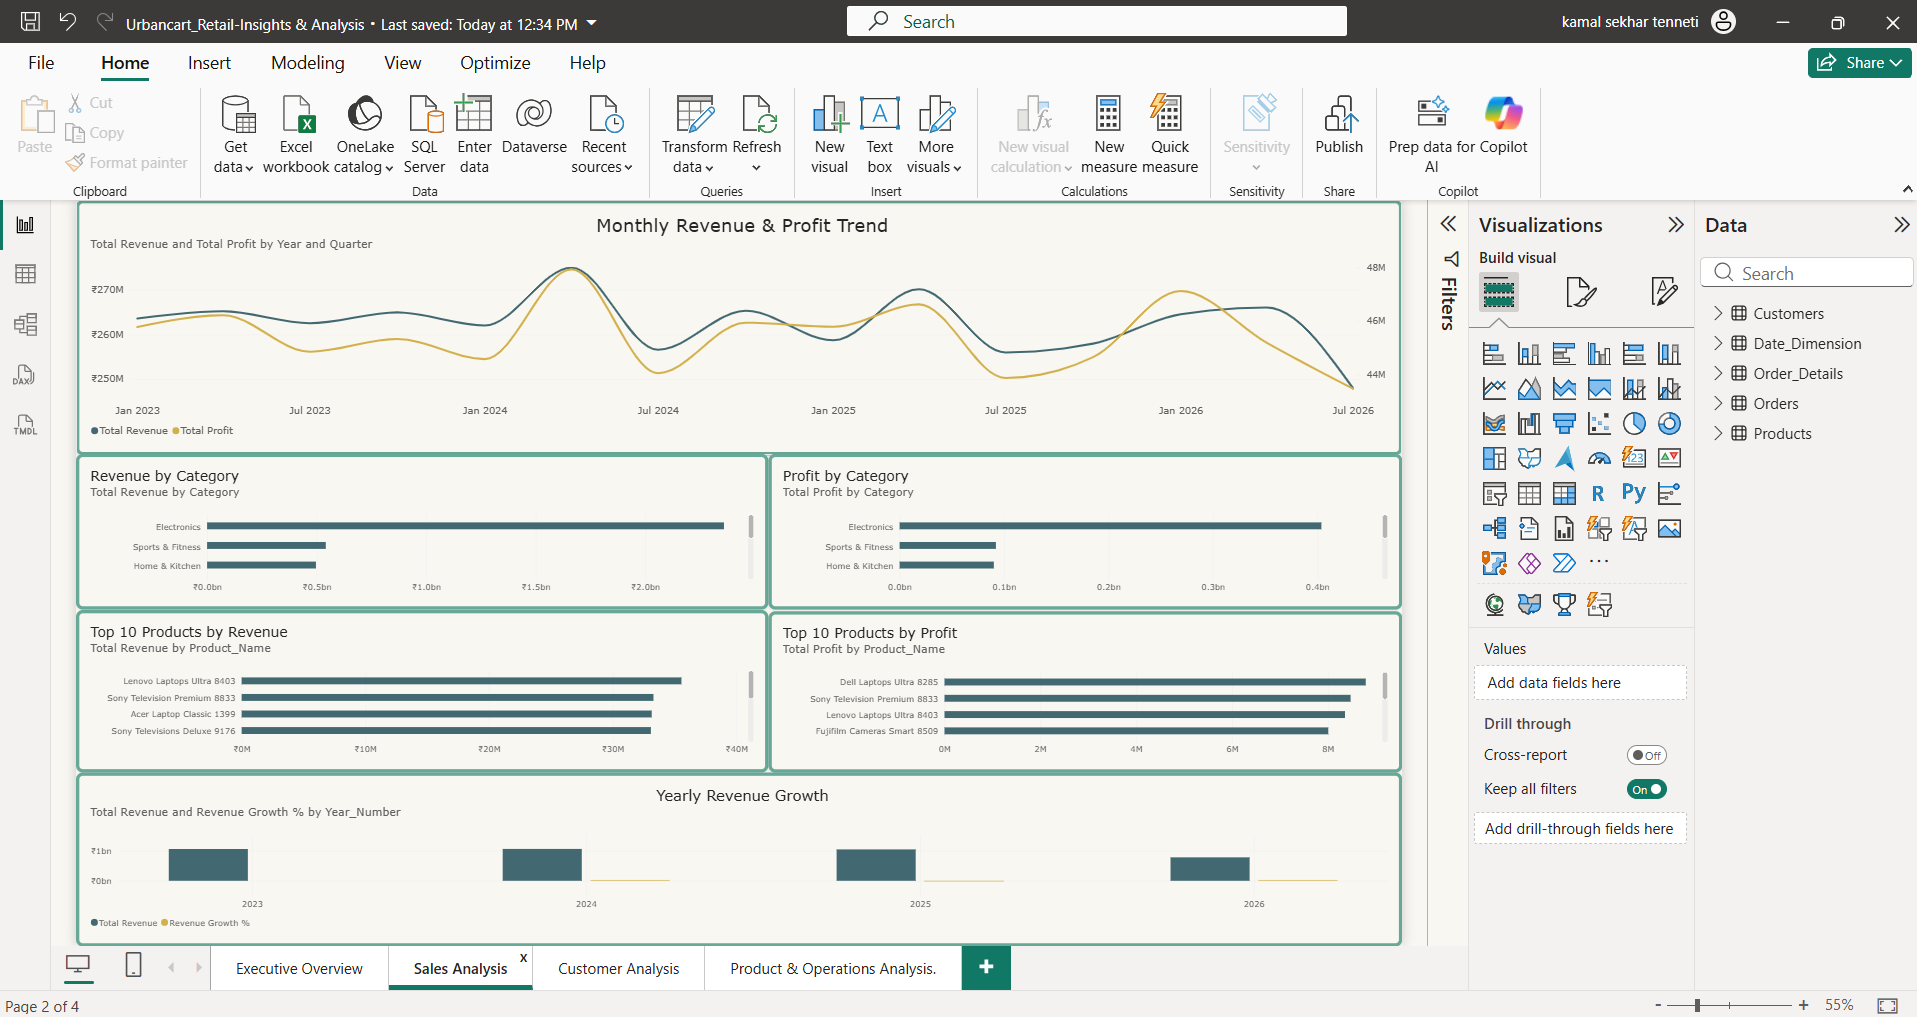

The page's visual inventory and layout, read from the dashboard file:
{"tool":"powerbi","page":{"name":"Sales Analysis","canvas":[1920,1080],"ordinal":1},"visuals":[{"type":"lineChart","title":"Monthly Revenue & Profit Trend","fields":{"Category":["Date_Dimension.Full_Date.Variation.Date Hierarchy.Year","Date_Dimension.Full_Date.Variation.Date Hierarchy.Quarter","Date_Dimension.Full_Date.Variation.Date Hierarchy.Month","Date_Dimension.Full_Date.Variation.Date Hierarchy.Day"],"Y":["Order_Details.Total Revenue"],"Y2":["Order_Details.Total Profit"]},"box":[0,0,1920,369.7],"z":0},{"type":"clusteredBarChart","title":"Revenue by Category","fields":{"Category":["Products.Category"],"Y":["Order_Details.Total Revenue"]},"box":[0,367.1,1002.4,225.9],"z":1000},{"type":"clusteredBarChart","title":"Profit by Category","fields":{"Category":["Products.Category"],"Y":["Order_Details.Total Profit"]},"box":[1002.4,367.1,917.6,225.9],"z":2000},{"type":"clusteredBarChart","title":"Top 10 Products by Revenue","fields":{"Category":["Products.Product_Name"],"Y":["Order_Details.Total Revenue"]},"box":[0,592.9,1002.4,235.3],"z":3000},{"type":"clusteredBarChart","title":"Top 10 Products by Profit","fields":{"Category":["Products.Product_Name"],"Y":["Order_Details.Total Profit"]},"box":[1002.4,595.3,917.7,233.6],"z":4000},{"type":"clusteredColumnChart","title":"Yearly Revenue Growth","fields":{"Category":["Date_Dimension.Year_Number"],"Y":["Order_Details.Total Revenue","Order_Details.Revenue Growth %"]},"box":[0,828.2,1920,251.8],"z":5000}]}

Visuals, with their boxes on the page's 1920x1080 design canvas (x1, y1, x2, y2). These are canvas units, not pixel positions in the 1917x1017 screenshot, which may show the page scaled, cropped or inside an application window:
"Monthly Revenue & Profit Trend" lineChart: pyautogui.locateOnScreen(0, 0, 1920, 370)
"Revenue by Category" clusteredBarChart: pyautogui.locateOnScreen(0, 367, 1002, 593)
"Profit by Category" clusteredBarChart: pyautogui.locateOnScreen(1002, 367, 1920, 593)
"Top 10 Products by Revenue" clusteredBarChart: pyautogui.locateOnScreen(0, 593, 1002, 828)
"Top 10 Products by Profit" clusteredBarChart: pyautogui.locateOnScreen(1002, 595, 1920, 829)
"Yearly Revenue Growth" clusteredColumnChart: pyautogui.locateOnScreen(0, 828, 1920, 1080)
